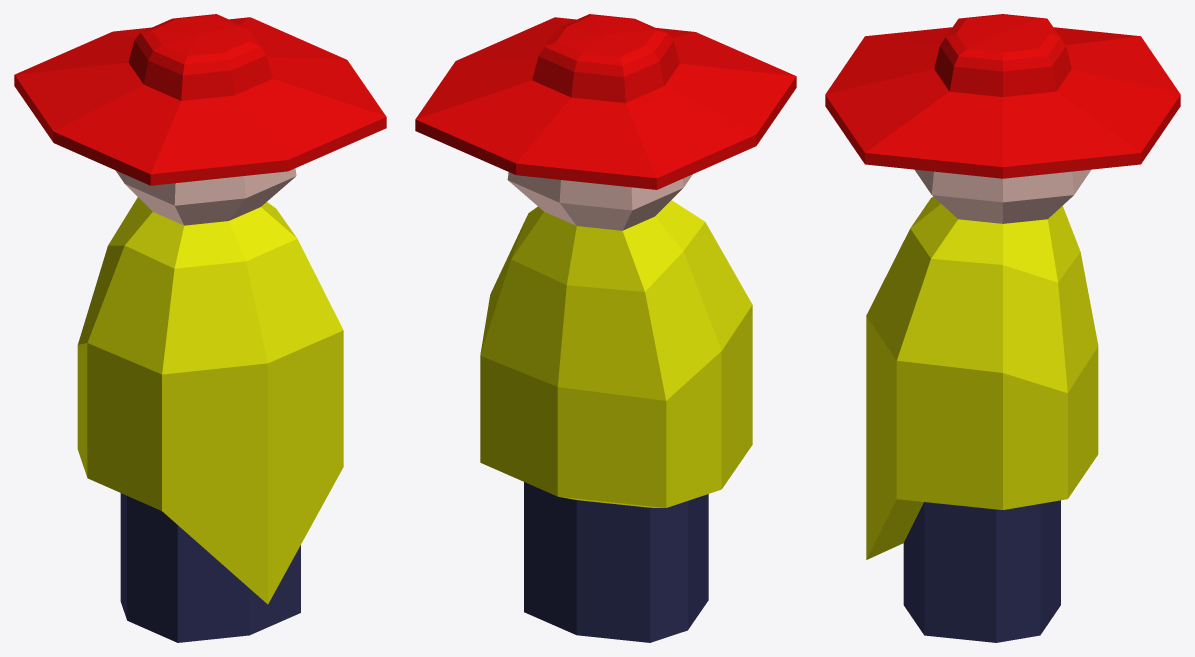
Rendered from Character.fbx.
3 views of the same model, side by side, from view 1: azimuth 30°, elevation 25°; view 2: azimuth 150°, elevation 25°; view 3: azimuth 270°, elevation 25° (orthographic). The views are drawn at different scales.
Parts seen in each view (by area): view 1: pCube41; view 2: pCube41; view 3: pCube41.
Part boxes in pixels (x1,y1,x2,y2): pCube41: (14, 14, 386, 642); pCube41: (415, 14, 796, 642); pCube41: (825, 14, 1180, 642).
Bounding box in the file's own units: 0.5693 × 1.05 × 0.5889.
